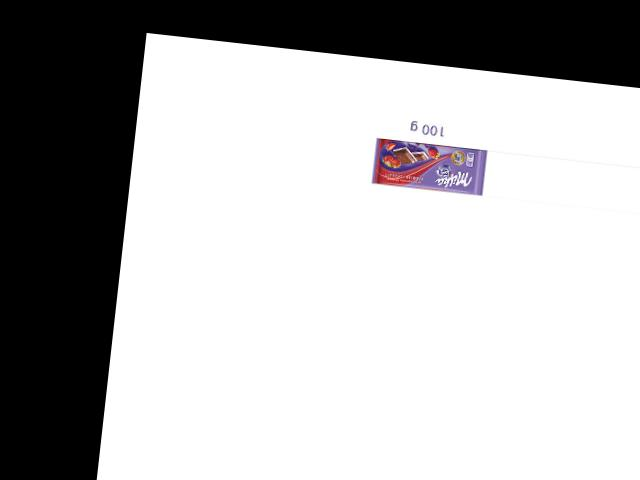chocolate: (370, 132, 487, 196)
